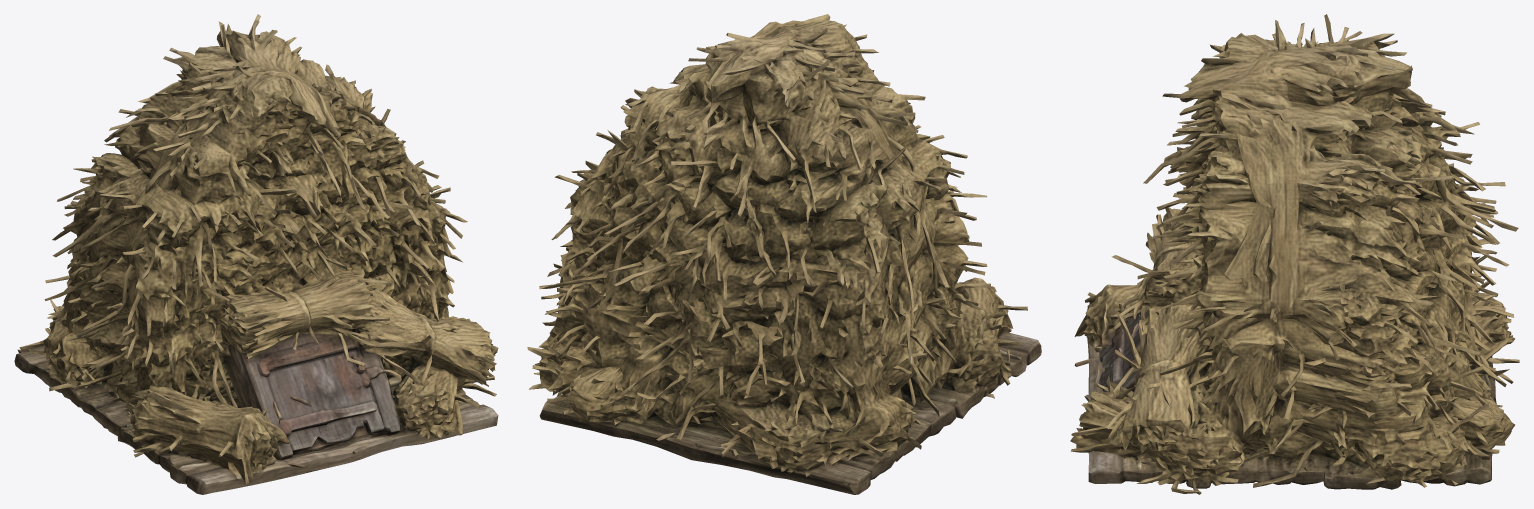
Rendered from haystack.glb.
The picture shows the model from 3 angles, left to right: view 1: azimuth 30°, elevation 25°; view 2: azimuth 150°, elevation 25°; view 3: azimuth 270°, elevation 25°; orthographic projection. The views are drawn at different scales.
Parts seen in each view (by area): view 1: world; view 2: world; view 3: world.
Part boxes in pixels (<box>): world: <box>14,14,498,494</box>; world: <box>527,14,1041,494</box>; world: <box>1070,14,1519,494</box>.
Bounding box in the file's own units: 0.7552 × 0.7 × 0.7589.
1 material, 1 textured.
